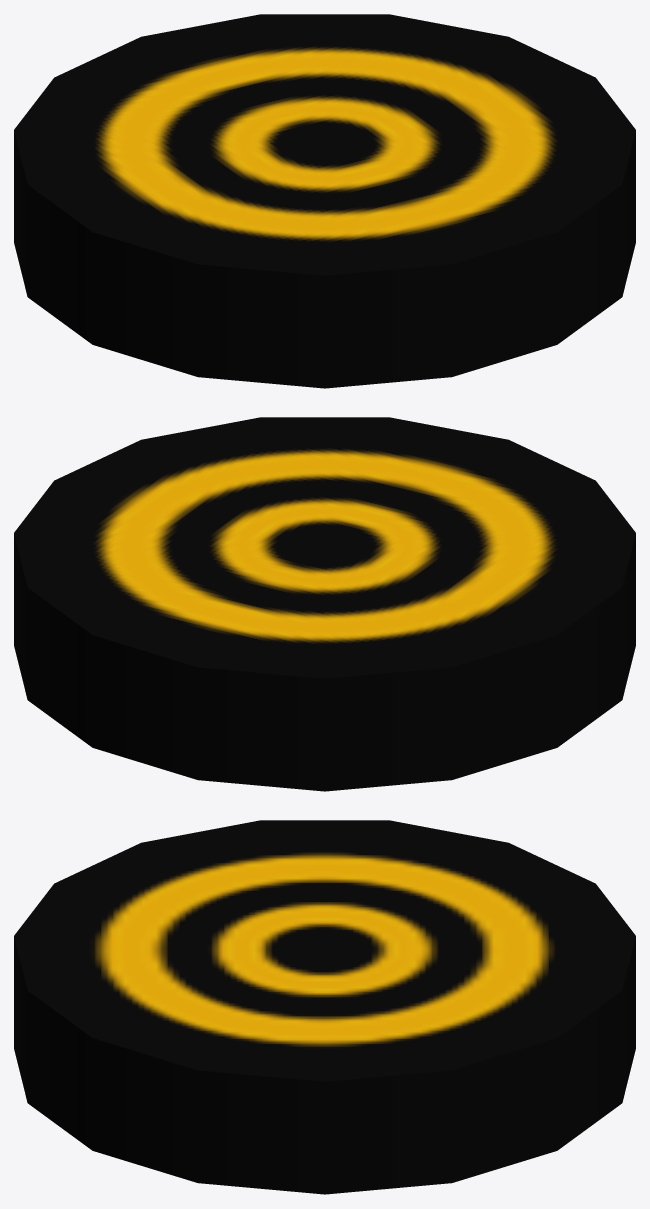
Rendered from coin.FBX.
3 views of the same model, one above another, from view 1: azimuth 30°, elevation 25°; view 2: azimuth 150°, elevation 25°; view 3: azimuth 270°, elevation 25° (orthographic).
Visible parts, largest first — view 1: coin; view 2: coin; view 3: coin.
Boxes of the visible parts, x1,y1,x2,y2 form: coin: [14, 14, 635, 388]; coin: [14, 417, 635, 791]; coin: [14, 820, 635, 1194].
Size of the model in its own units: 22.94 by 23.07 by 4.61.
Materials: 1 (1 with a texture image).
